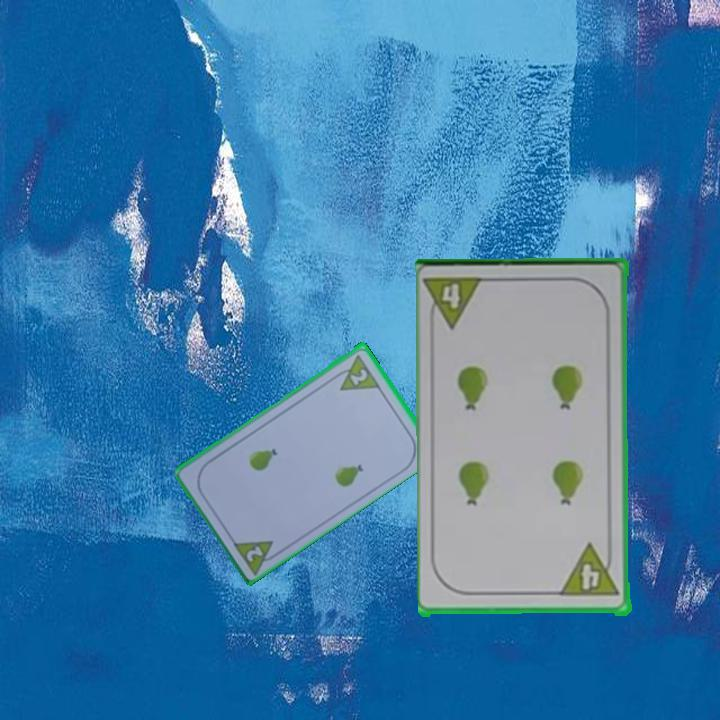2p: (329, 350, 382, 393), (229, 536, 284, 576)
4p: (424, 273, 489, 332), (558, 542, 623, 600)
